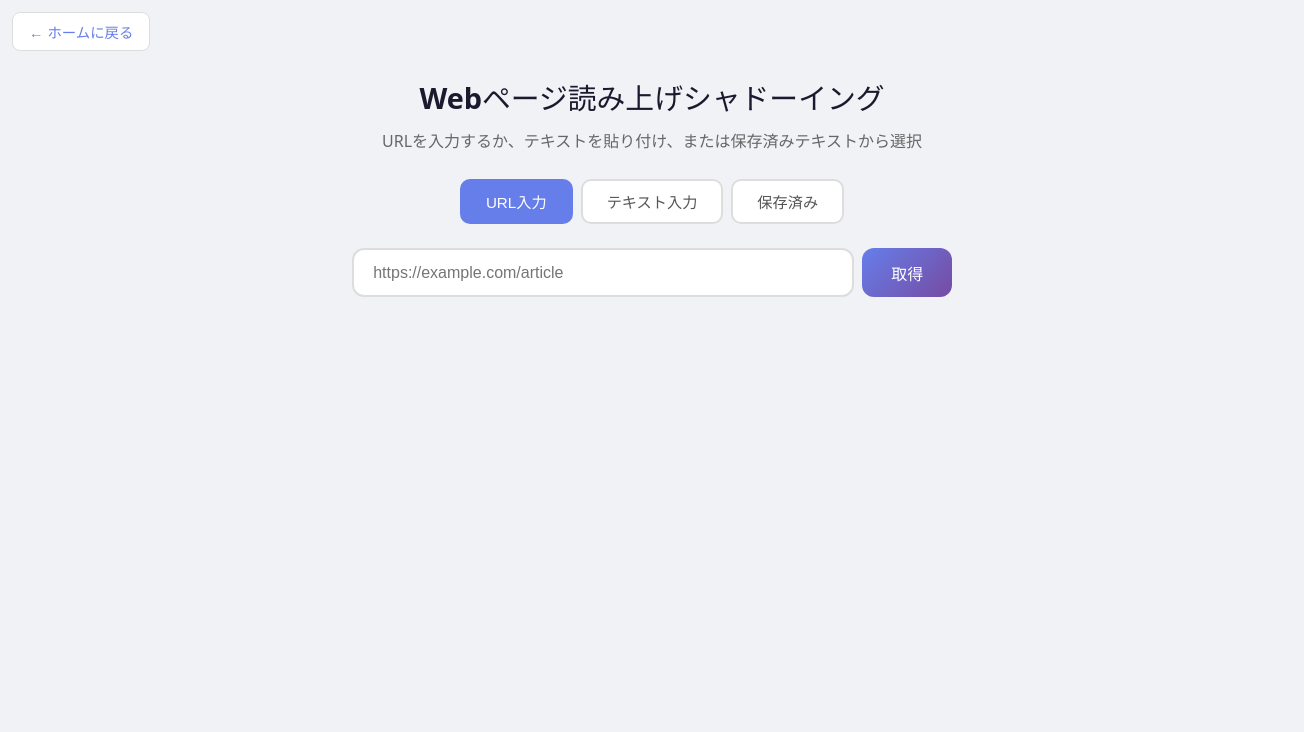
Scenario: TextReaderPage › shows sentence count after loading text
Click the button "テキスト入力" at (652, 201), box [581, 179, 723, 224]
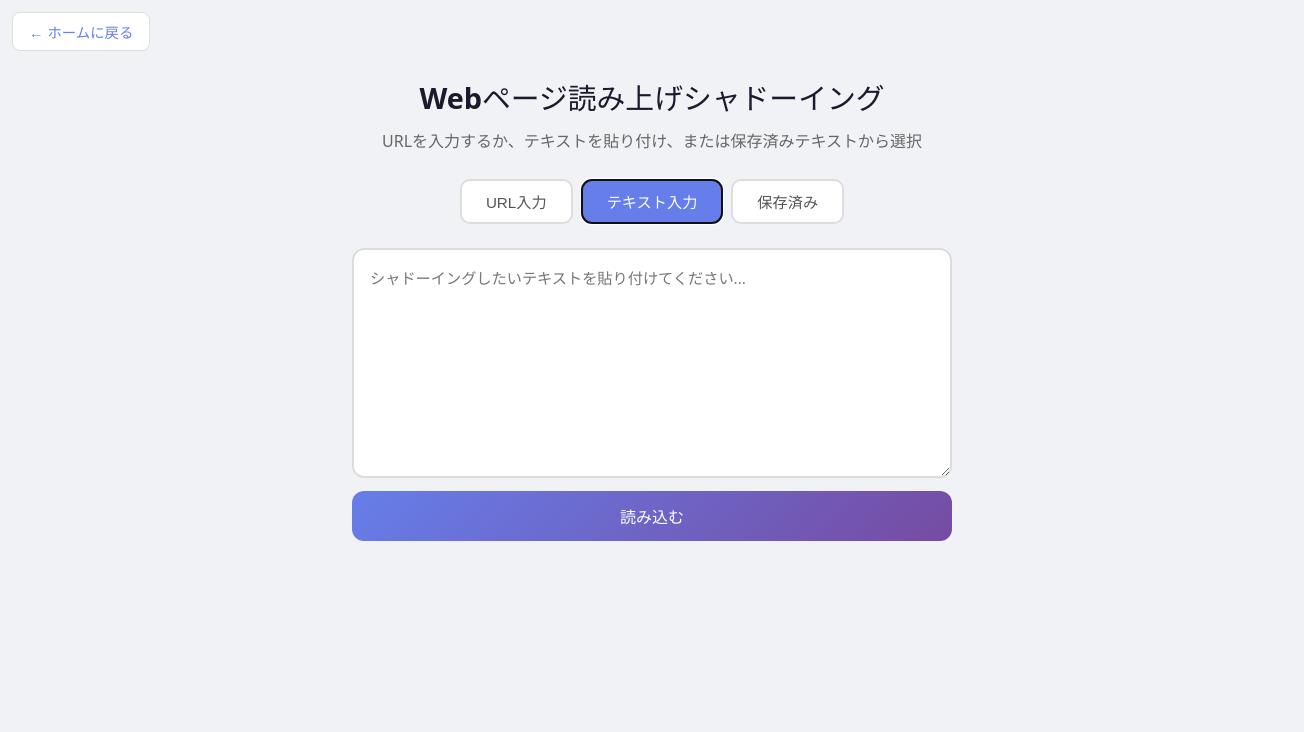
Type "First sentence. Second sentence." into the text box with placeholder "シャドーイングしたいテキストを貼り付けてください..." at (652, 363), box [352, 248, 952, 478]
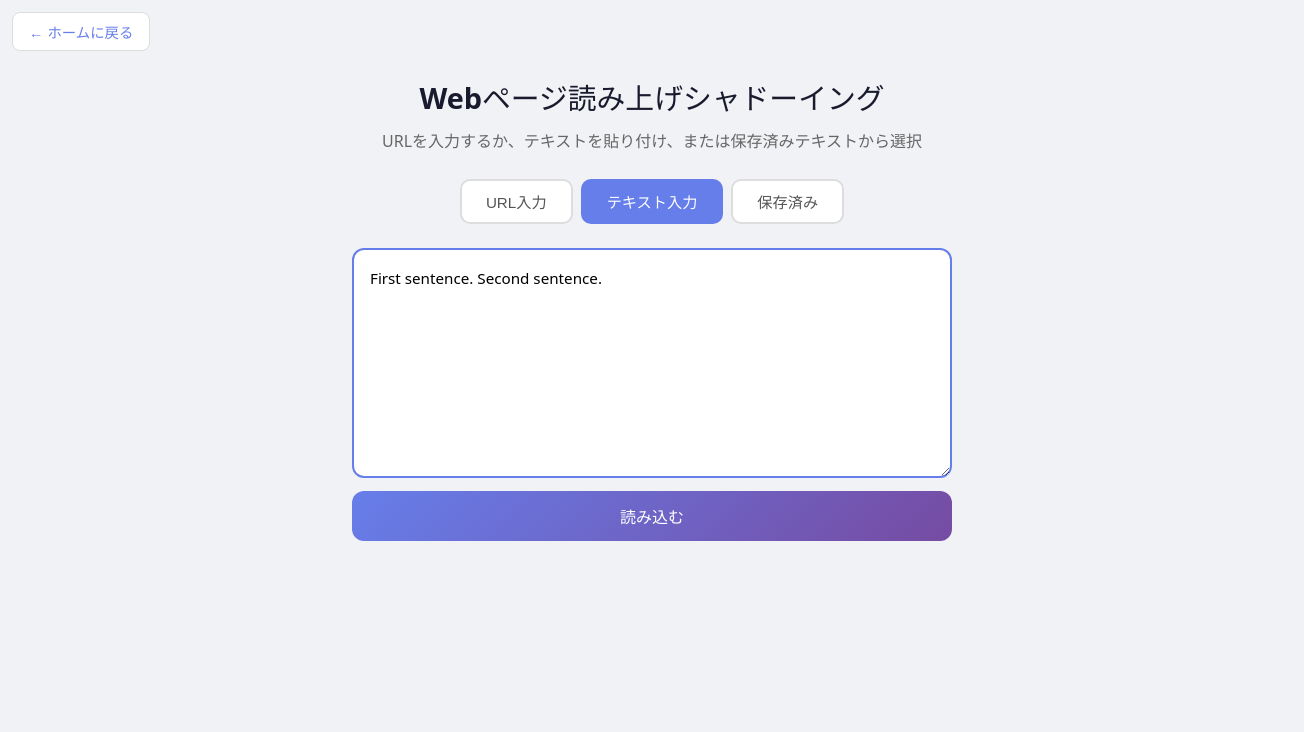
Click the button "読み込む" at (652, 516), box [352, 491, 952, 541]
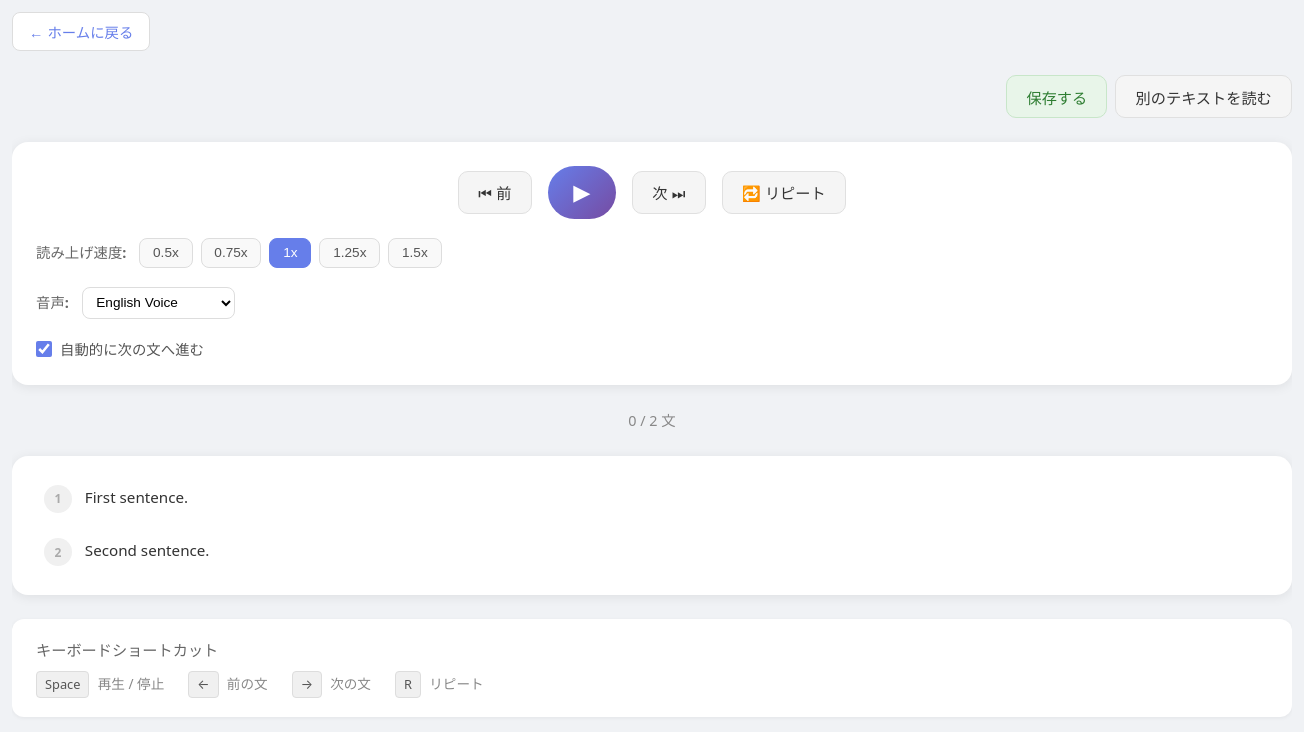
Expected: the text "0 / 2 文" is shown, [628, 411, 676, 430]
